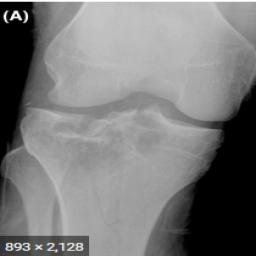cancer: (24, 112, 172, 193)
